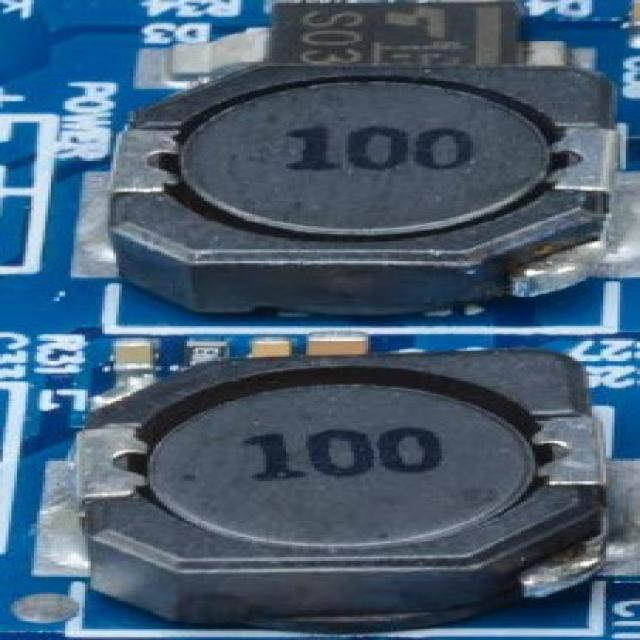capacitor 1V5: (110, 340, 159, 380)
diode -D1-: (210, 0, 560, 66)
inductor F1: (63, 355, 627, 607), (127, 58, 625, 306)
resistor IR1: (172, 334, 226, 364)
